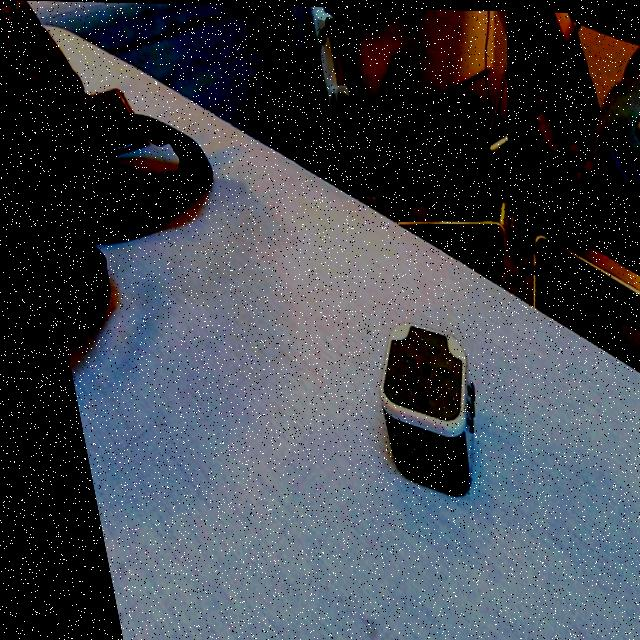adapter: (350, 318, 476, 495)
